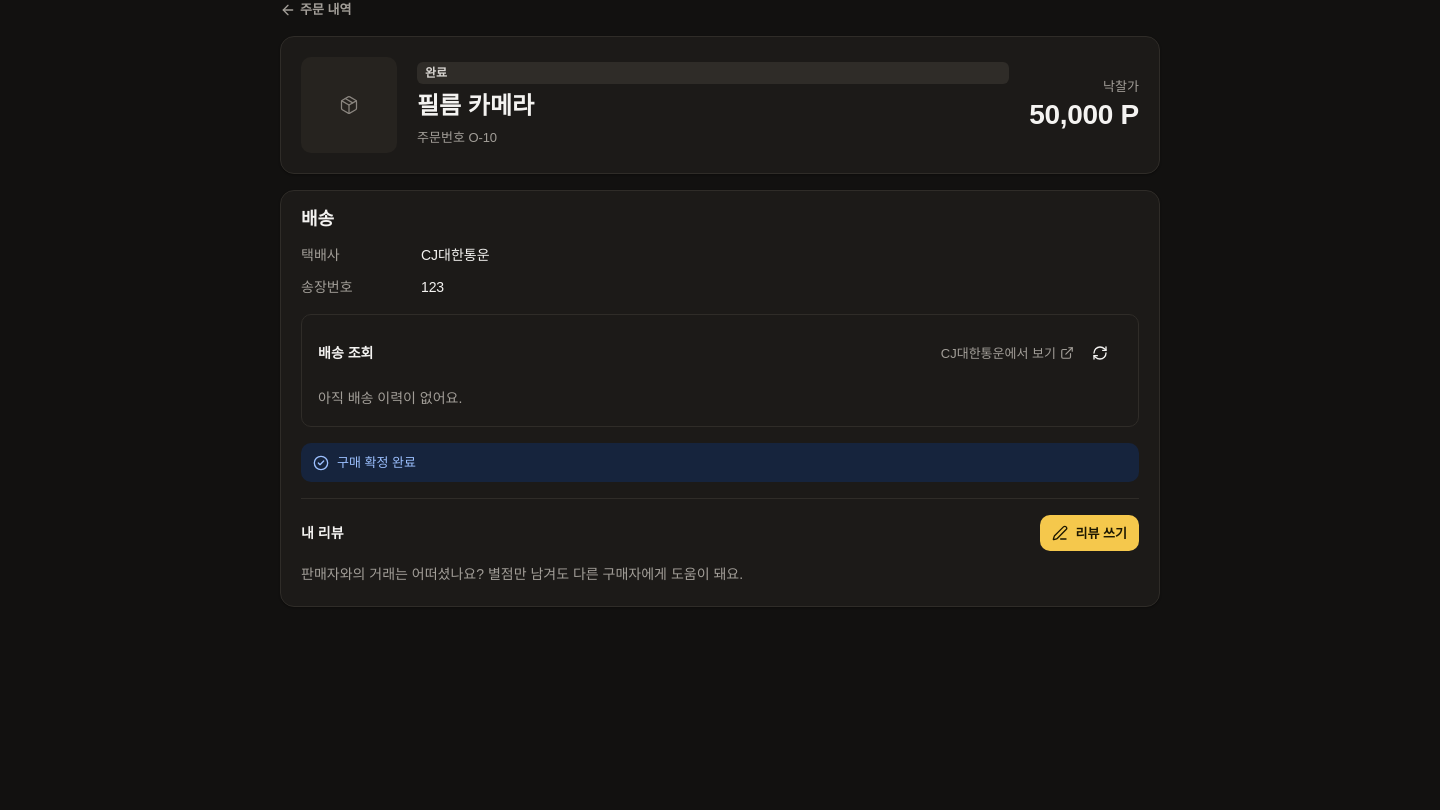
Test: 주문 리뷰 쓰기 › 별점을 고르지 않으면 보내지 않고, 별점만으로 리뷰를 쓸 수 있다
Click the button "리뷰 쓰기": (1089,533) [1040, 515, 1139, 551]
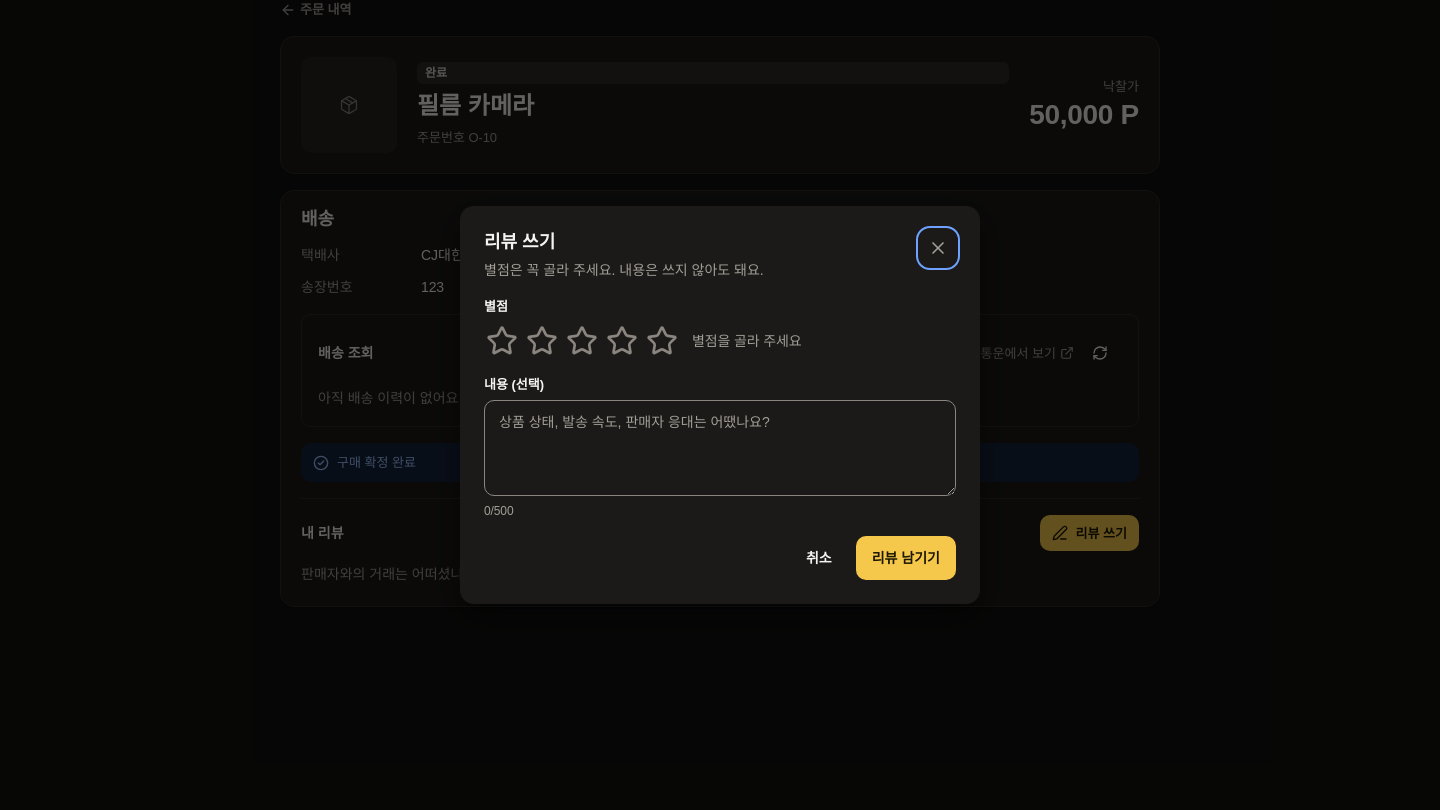
Click the button "리뷰 남기기": (906,558) [856, 536, 956, 580]
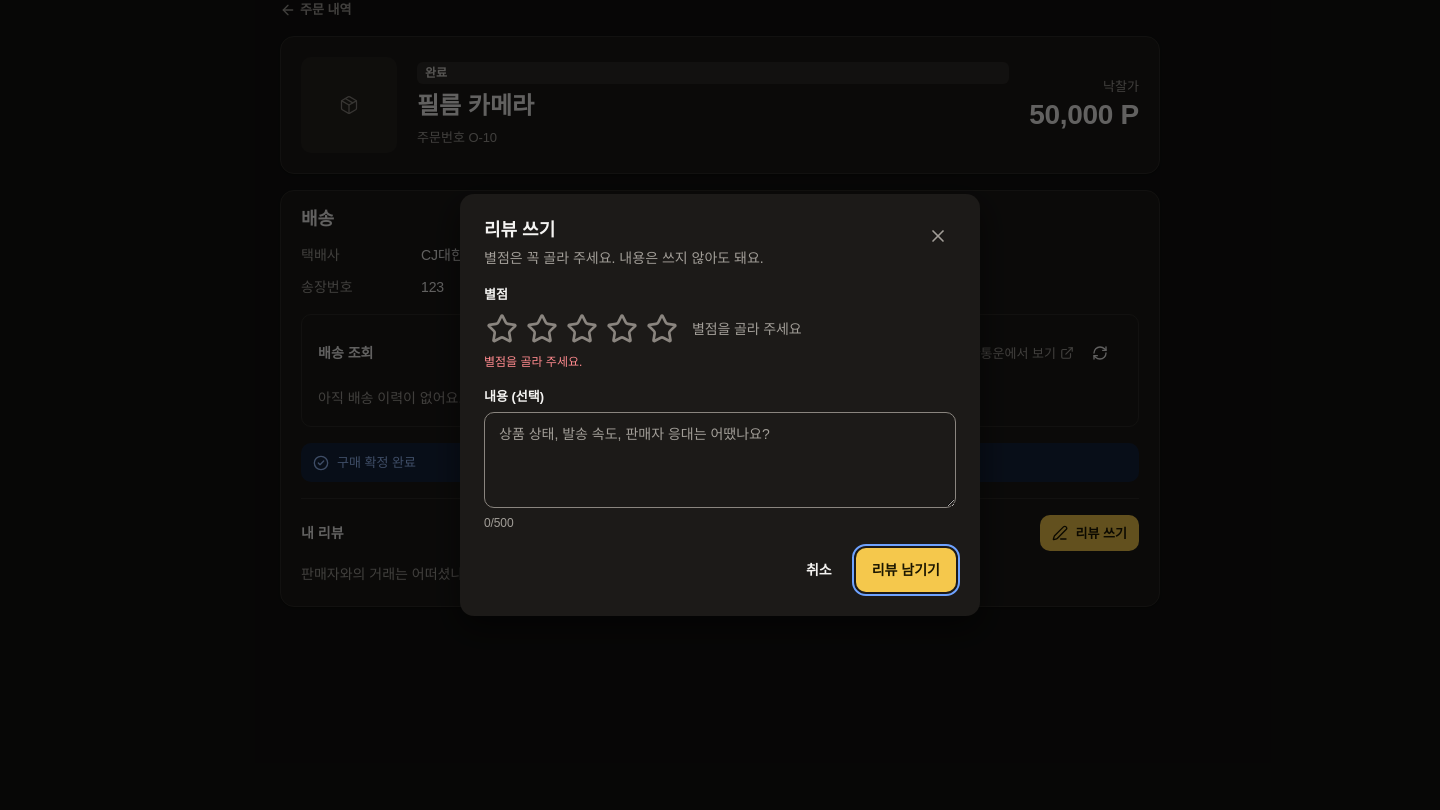
Now the text "별점을 골라 주세요." is shown, box [484, 355, 582, 369]
Click the radio button named "4점": (622,329) [604, 311, 640, 347]
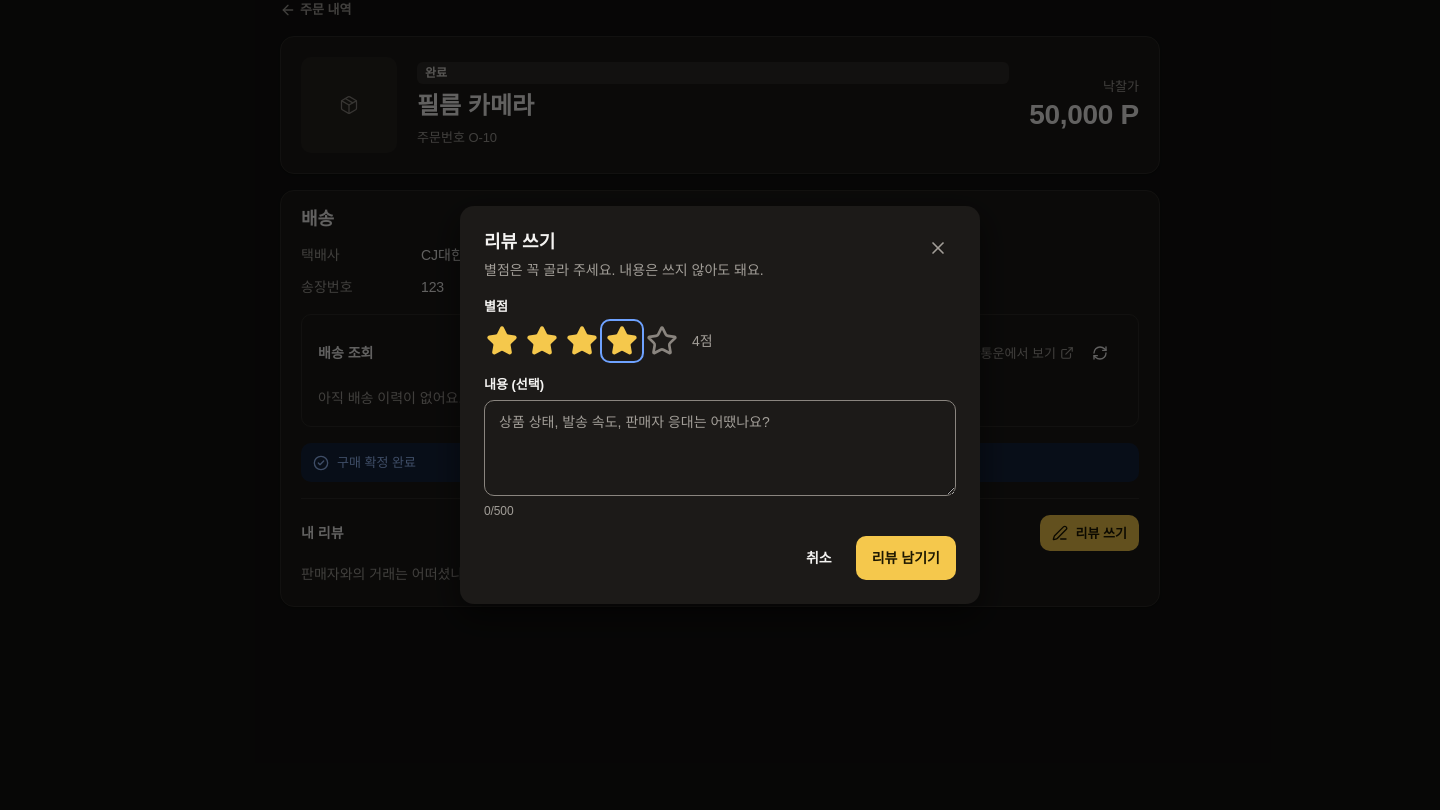
Click the button "리뷰 남기기": (906,558) [856, 536, 956, 580]
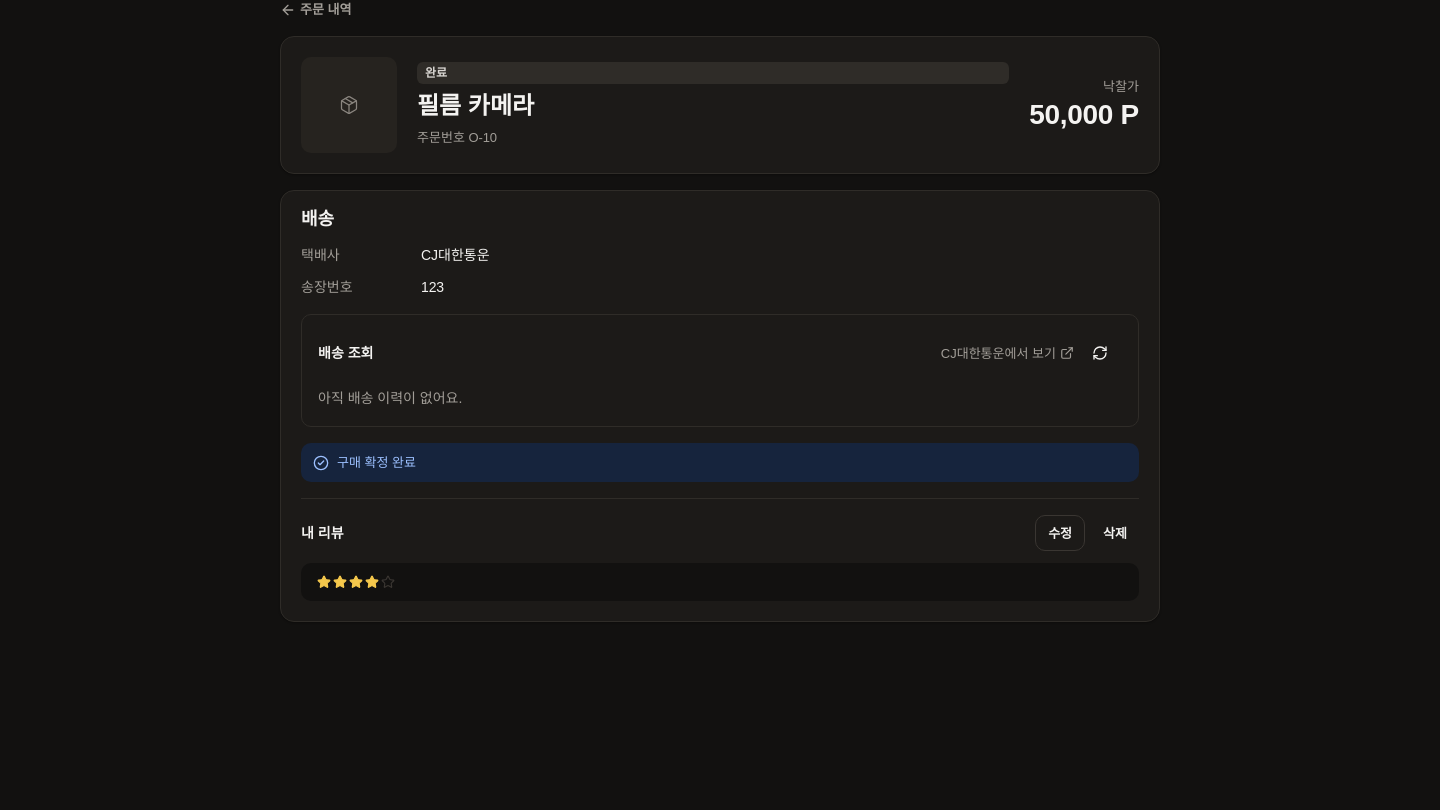
Now the picture named "별점 5점 만점에 4점" is shown, box [317, 575, 395, 589]
Now the button "수정" is shown, box [1035, 515, 1085, 551]
Now the button "삭제" is shown, box [1091, 515, 1139, 551]
